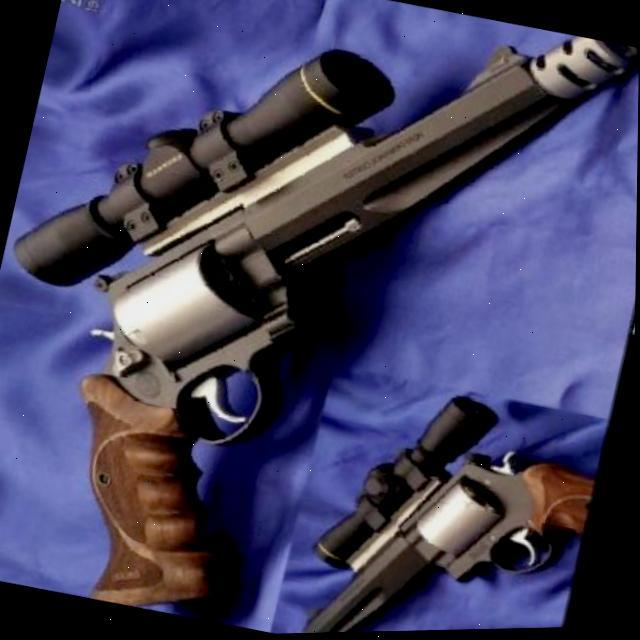gun: (0, 0, 640, 640), (302, 373, 608, 634)
